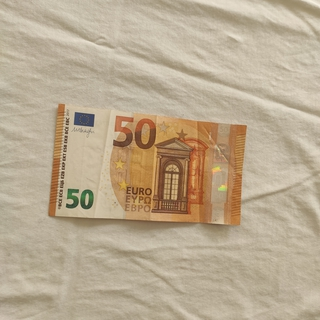50EUROFront: (48, 102, 247, 227)
